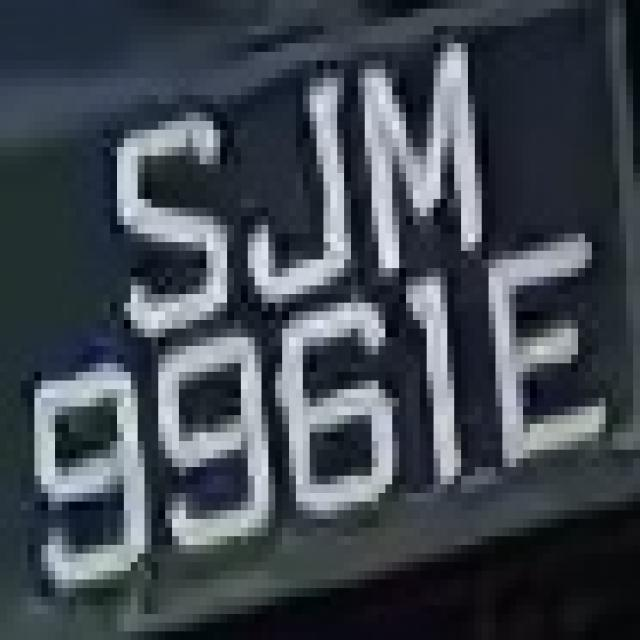1: (406, 260, 489, 528)
6: (268, 286, 406, 554)
9: (138, 303, 289, 588), (21, 338, 179, 606)
E: (488, 225, 606, 493)
J: (227, 69, 365, 320)
M: (344, 34, 496, 286)
S: (96, 78, 234, 363)
